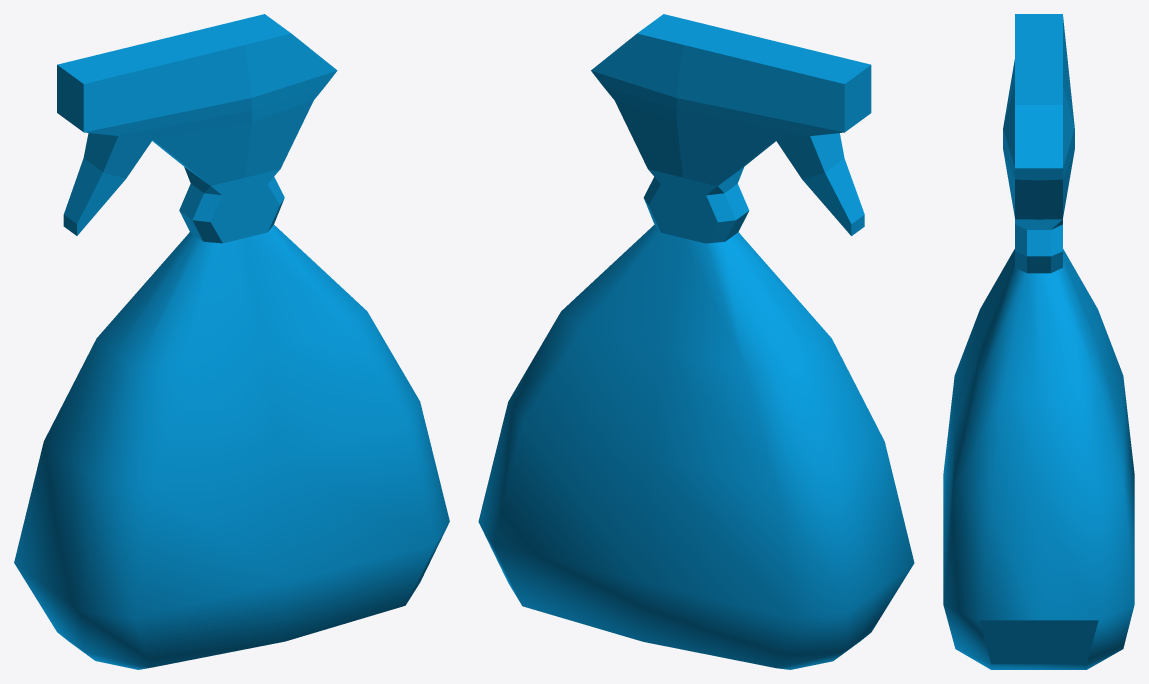
File: p_SprayBottle.fbx
3 renders of one model, left to right at view 1: azimuth 30°, elevation 25°; view 2: azimuth 150°, elevation 25°; view 3: azimuth 270°, elevation 25°, orthographic. The views are drawn at different scales.
Visible parts, largest first — view 1: p_Spraybottle; view 2: p_Spraybottle; view 3: p_Spraybottle.
Boxes of the visible parts, left/top/right/bottom form: p_Spraybottle: left=14, top=14, right=449, bottom=669; p_Spraybottle: left=478, top=14, right=914, bottom=669; p_Spraybottle: left=943, top=14, right=1134, bottom=669.
Bounding box in the file's own units: 12.5 × 18.75 × 6.25.
